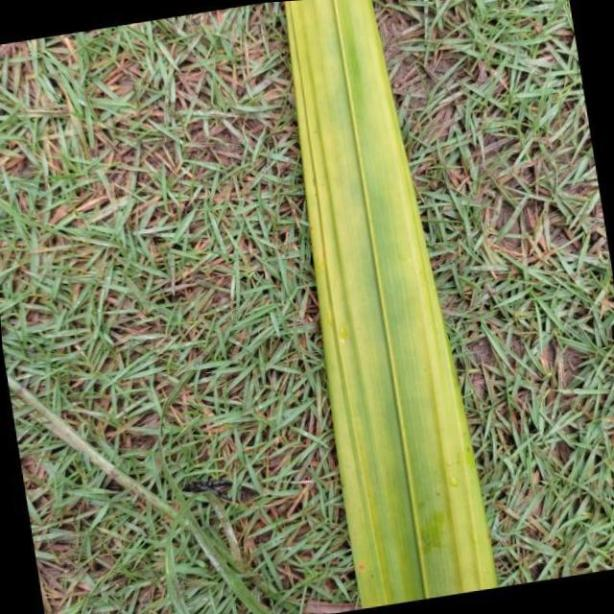nitrogen: (284, 0, 495, 614)
